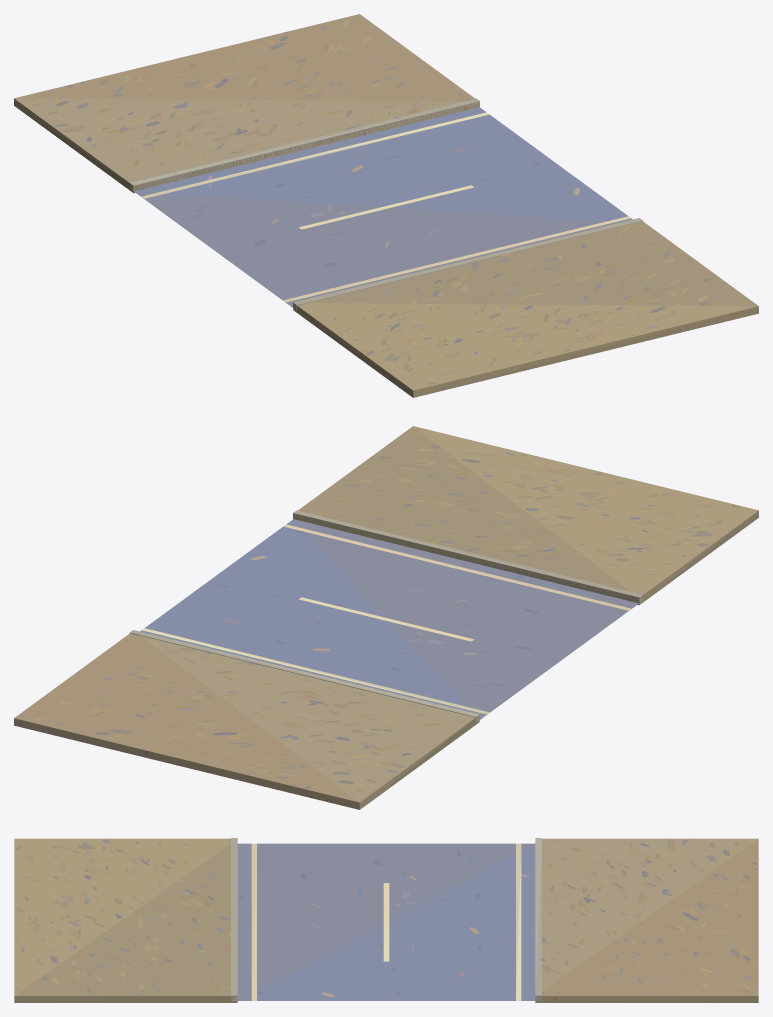
Rendered from HK_Road_Straight.glb.
The picture shows the model from 3 angles, top to bottom: view 1: azimuth 30°, elevation 25°; view 2: azimuth 150°, elevation 25°; view 3: azimuth 270°, elevation 25°; orthographic projection. The views are drawn at different scales.
Parts seen in each view (by area): view 1: HK_Road_Straight; view 2: HK_Road_Straight; view 3: HK_Road_Straight.
Part boxes in pixels (bbox=[...]): HK_Road_Straight: bbox=[14, 14, 758, 397]; HK_Road_Straight: bbox=[14, 426, 758, 809]; HK_Road_Straight: bbox=[14, 838, 758, 1002].
Size of the model in its own units: 10.02 by 0.2264 by 20.01.
